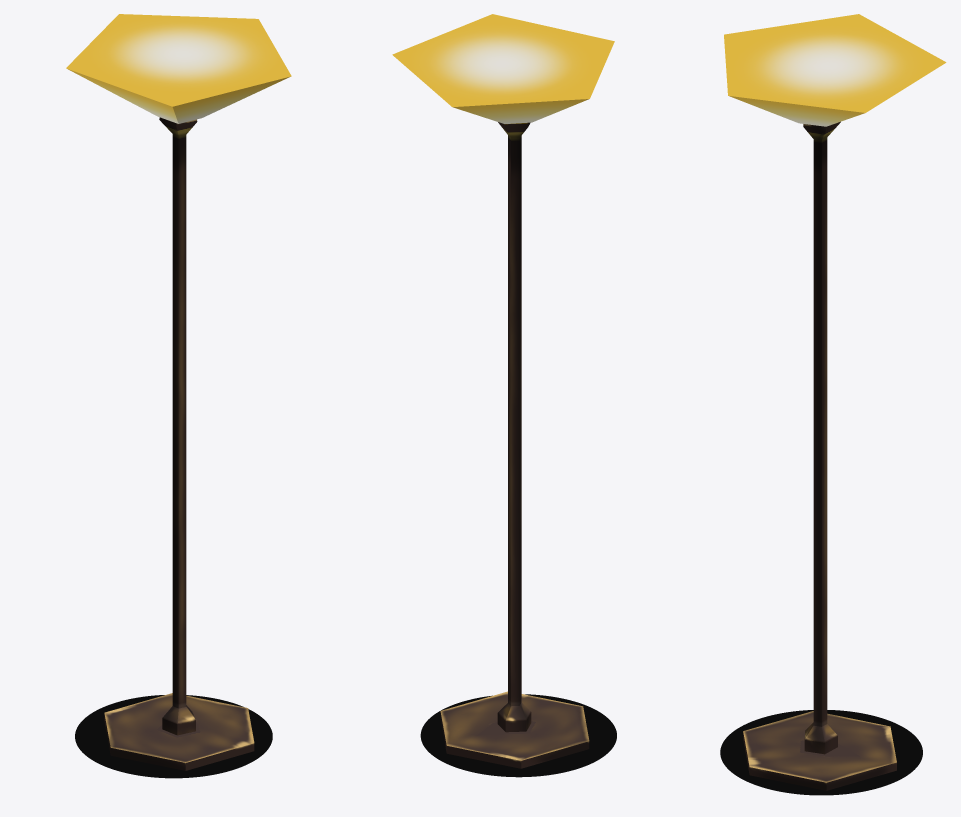
Rendered from lamp_big.fbx.
3 views of the same model, side by side, from view 1: azimuth 30°, elevation 25°; view 2: azimuth 150°, elevation 25°; view 3: azimuth 270°, elevation 25° (orthographic). The views are drawn at different scales.
Parts seen in each view (by area): view 1: torch_lampA3, shadow; view 2: torch_lampA3, shadow; view 3: torch_lampA3, shadow.
Boxes of the visible parts, left/top/right/bottom form: torch_lampA3: left=66, top=14, right=291, bottom=770; shadow: left=75, top=695, right=272, bottom=778; torch_lampA3: left=392, top=14, right=614, bottom=768; shadow: left=420, top=694, right=616, bottom=777; torch_lampA3: left=724, top=14, right=946, bottom=790; shadow: left=720, top=710, right=922, bottom=795.
Size of what is drawn, in the model's own units: 4.86 by 15.2 by 4.81.
3 materials, 3 textured.
